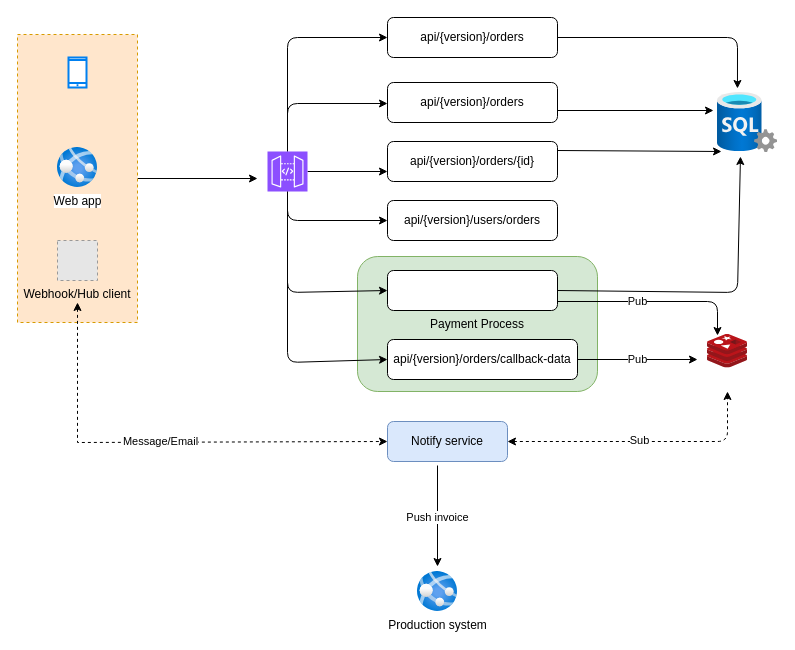
Image size: 795x650. Some labels were removed from this diagram. Grey dashed boxes stand in for pictures. The centre of each missing label's shape, as x and y in pixels:
"API Gateway" belongs at point (287, 171).
"api/{version}/orders/ipn" belongs at point (472, 290).
"Mobile app" belongs at point (77, 72).
"Redis" belongs at point (727, 351).
"SQL server" belongs at point (747, 122).
